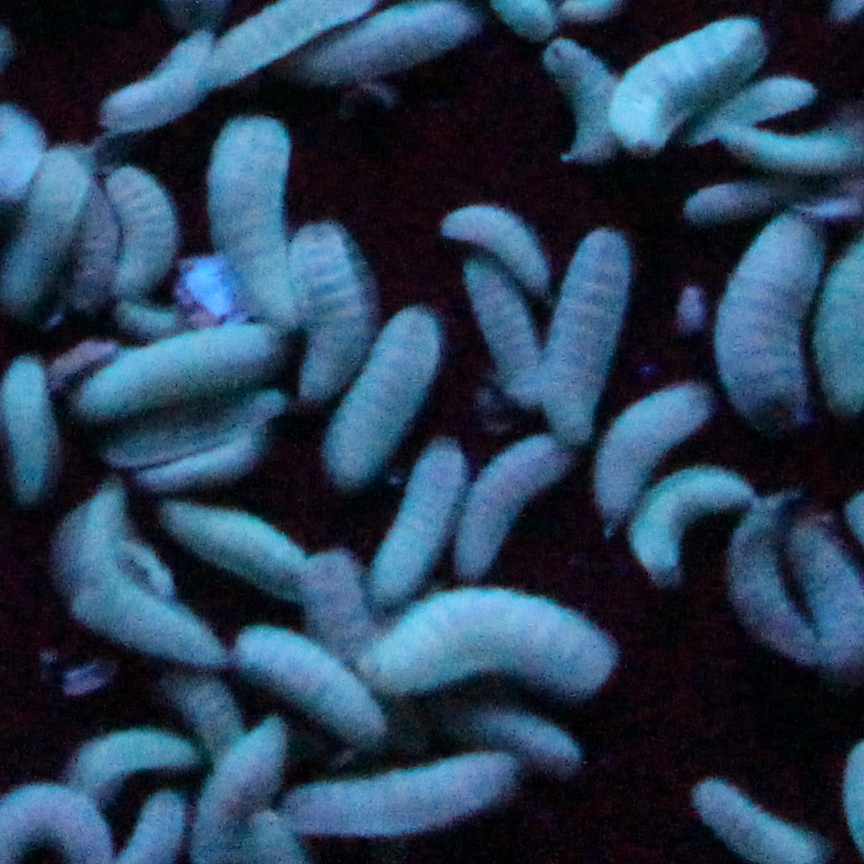larve: (60, 486, 228, 672), (362, 590, 627, 705), (320, 285, 450, 495), (605, 0, 770, 160), (715, 223, 822, 433), (285, 745, 527, 833), (210, 118, 305, 325), (552, 218, 637, 448), (712, 485, 825, 658), (82, 324, 284, 420), (592, 378, 702, 540), (460, 430, 575, 580), (230, 633, 390, 738), (0, 142, 98, 310), (297, 3, 477, 93), (422, 685, 585, 783), (630, 458, 752, 580), (150, 508, 322, 594), (375, 440, 462, 605), (58, 720, 224, 806), (462, 243, 545, 415), (292, 228, 372, 400), (105, 28, 220, 135), (712, 118, 862, 198), (692, 765, 832, 850), (547, 33, 625, 175), (104, 158, 176, 290), (695, 63, 817, 138), (445, 205, 552, 280), (80, 174, 126, 316), (134, 788, 190, 860)
